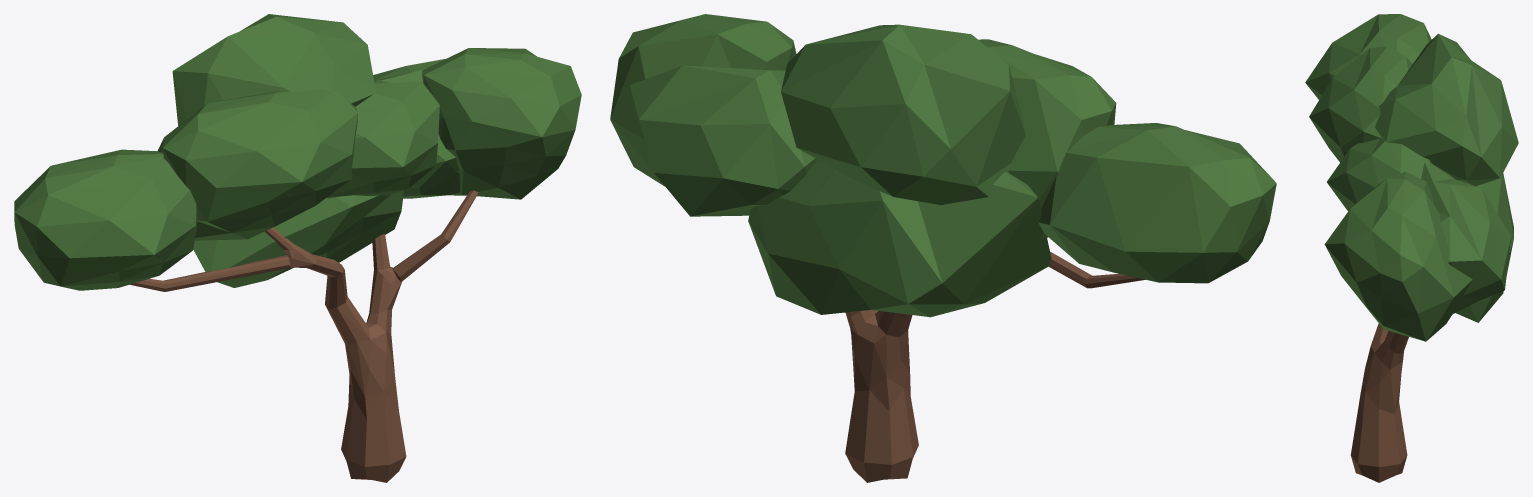
File: free3d-tree-b.glb
3 renders of one model, left to right at view 1: azimuth 30°, elevation 25°; view 2: azimuth 150°, elevation 25°; view 3: azimuth 270°, elevation 25°, orthographic. The views are drawn at different scales.
Visible parts, largest first — view 1: Tree2.1; view 2: Tree2.1; view 3: Tree2.1.
Boxes of the visible parts, bbox=[...] form: Tree2.1: bbox=[14, 14, 581, 482]; Tree2.1: bbox=[610, 14, 1276, 482]; Tree2.1: bbox=[1305, 14, 1518, 482].
Size of the model in its own units: 8.46 by 6.4 by 3.12.
